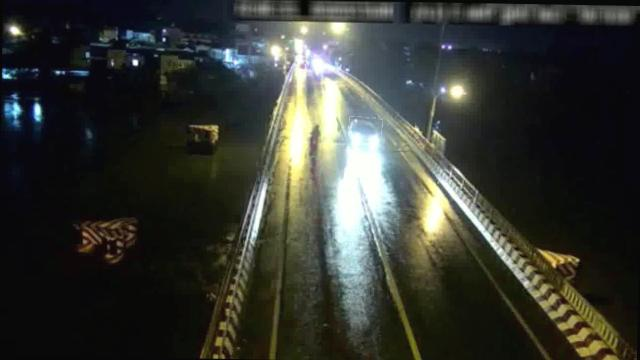Bike: (306, 122, 323, 158)
Car: (348, 116, 382, 150)
